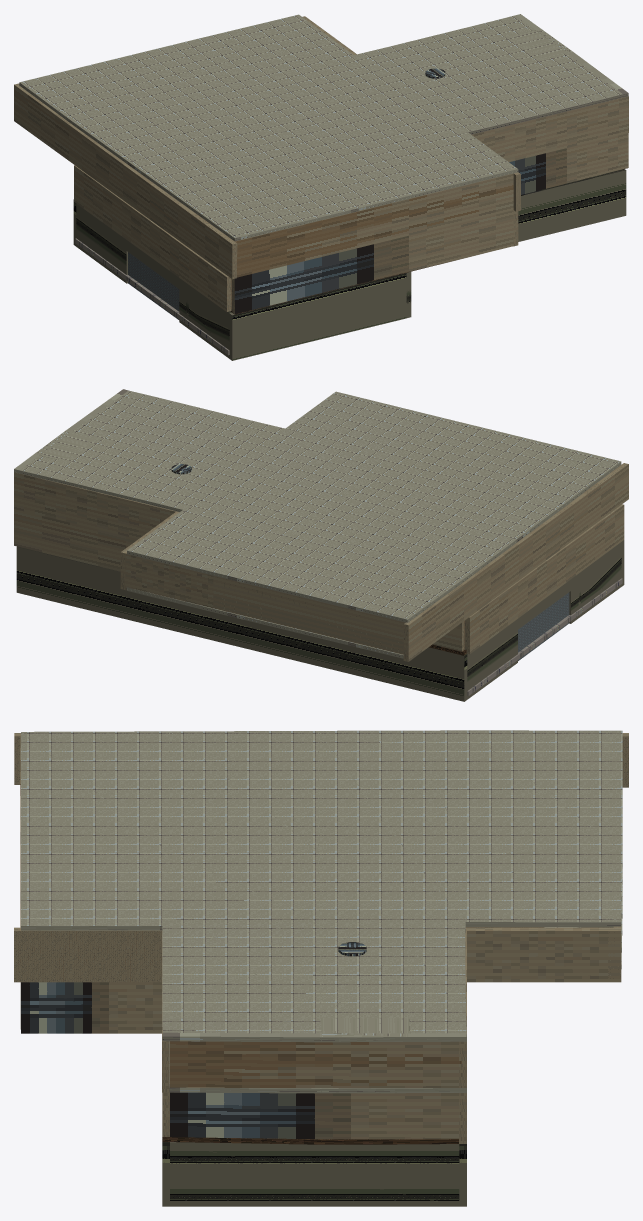
Rendered from NewGotyMap.fbx.
3 views of the same model, one above another, from view 1: azimuth 30°, elevation 25°; view 2: azimuth 150°, elevation 25°; view 3: azimuth 270°, elevation 25° (orthographic). The views are drawn at different scales.
Parts seen in each view (by area): view 1: Cube.060, Cube.023, Cube.047, Cube.046, Cube, Cube.028, Cube.041, Cube.001, Cube.003, Cube.022, Cube.004, BézierCurve; view 2: Cube.060, Cube.005, Cube.043, Cube.046, Cube.028, Cube.040, Cube.003, Cube.018, Cube.004, Cube.037, BézierCurve; view 3: Cube.060, Cube.006, Cube.019, Cube.039, Cube.042, Cube.048, Cube.021, Cube.037, Cube.015, Cube.046.
Boxes of the visible parts, left/top/right/bottom form: Cube.060: left=19, top=14, right=628, bottom=241; Cube.023: left=232, top=210, right=513, bottom=313; Cube.047: left=233, top=173, right=513, bottom=277; Cube.046: left=14, top=83, right=237, bottom=279; Cube: left=229, top=273, right=406, bottom=360; Cube.028: left=74, top=165, right=231, bottom=311; Cube.041: left=471, top=96, right=628, bottom=161; Cube.001: left=518, top=169, right=626, bottom=241; Cube.003: left=76, top=204, right=231, bottom=358; Cube.022: left=509, top=133, right=628, bottom=194; Cube.004: left=128, top=252, right=179, bottom=319; BézierCurve: left=75, top=238, right=229, bottom=355; Cube.060: left=14, top=389, right=621, bottom=622; Cube.005: left=16, top=546, right=467, bottom=701; Cube.043: left=125, top=552, right=405, bottom=654; Cube.046: left=403, top=463, right=628, bottom=661; Cube.028: left=465, top=504, right=624, bottom=654; Cube.040: left=14, top=472, right=179, bottom=539; Cube.003: left=467, top=542, right=621, bottom=699; Cube.018: left=14, top=509, right=464, bottom=651; Cube.004: left=518, top=592, right=569, bottom=660; Cube.037: left=127, top=587, right=403, bottom=658; BézierCurve: left=467, top=578, right=622, bottom=695; Cube.060: left=21, top=730, right=622, bottom=1042; Cube.006: left=170, top=1142, right=459, bottom=1206; Cube.019: left=170, top=1092, right=458, bottom=1139; Cube.039: left=170, top=1041, right=458, bottom=1087; Cube.042: left=467, top=927, right=621, bottom=982; Cube.048: left=14, top=927, right=161, bottom=982; Cube.021: left=21, top=982, right=161, bottom=1033; Cube.037: left=169, top=868, right=622, bottom=1093; Cube.015: left=162, top=1137, right=458, bottom=1144; Cube.046: left=14, top=733, right=628, bottom=787.
Size of the model in its own units: 5169 by 1356 by 4345.
